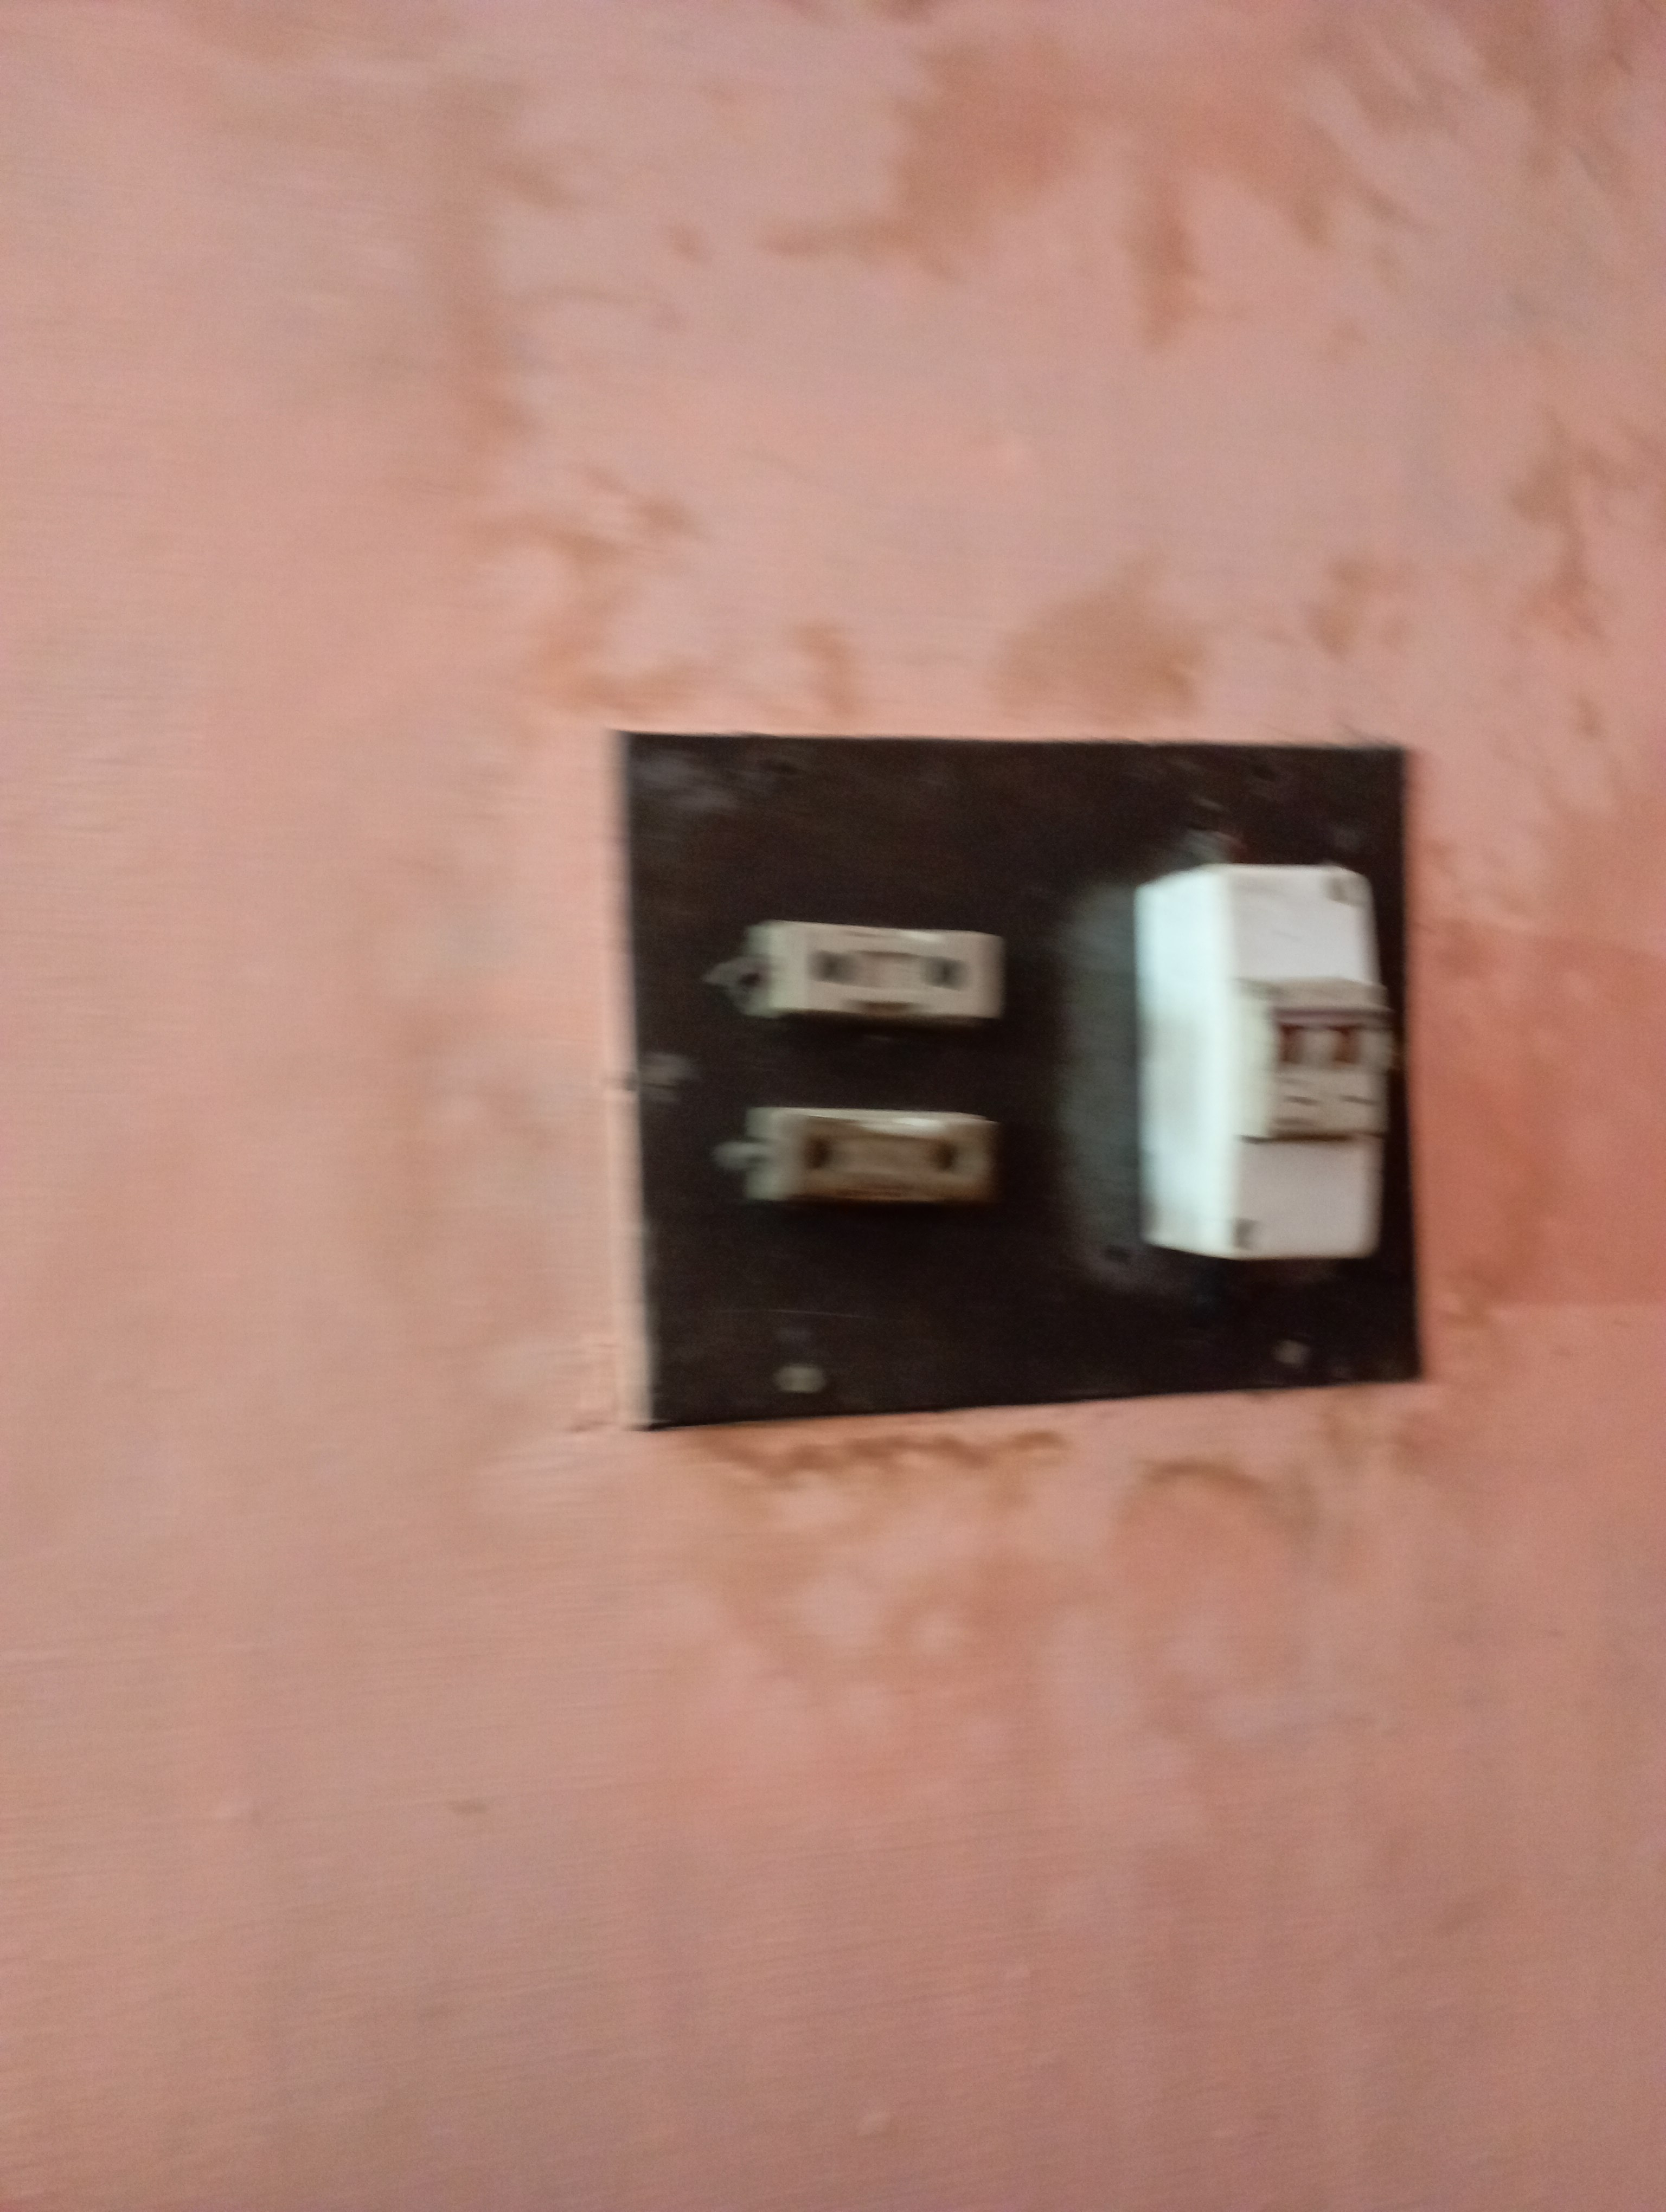ciruit_breaker: (1102, 841, 1393, 1299)
fuse: (709, 904, 1019, 1044), (740, 1088, 1001, 1229)
